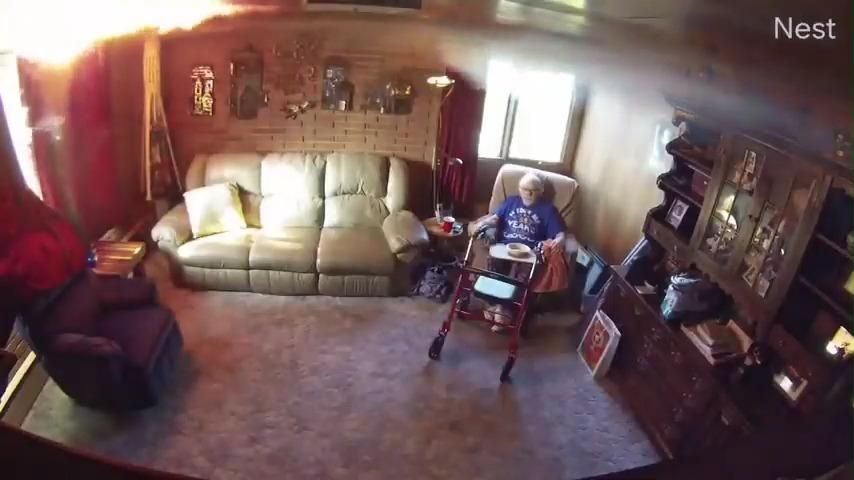fire: (3, 1, 237, 72)
